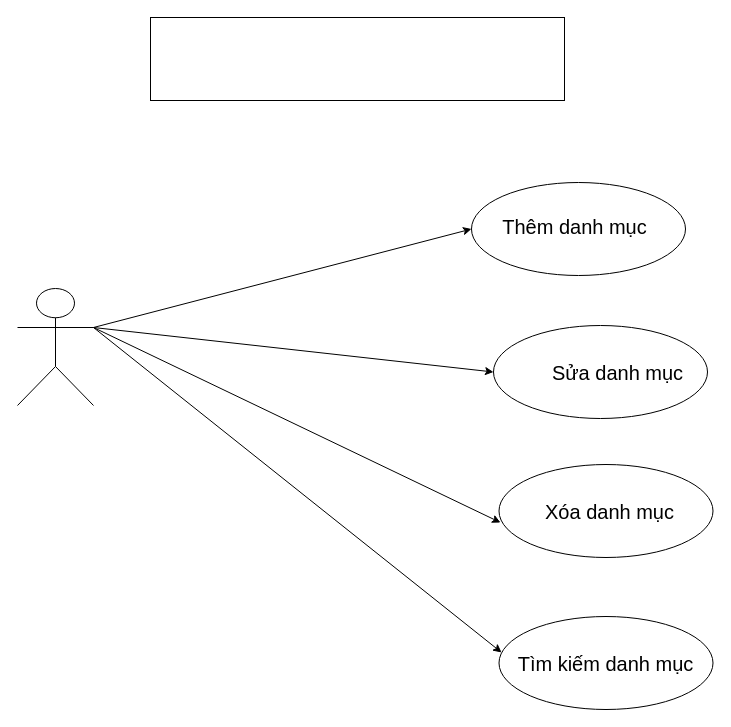
The diagram is 731 pixels wide and 727 high, and some of its shapes have lost their labels. Here are the shapes that lost their labels. From the top down, the centre of each, then its label:
At pixel 357 58: "Quản lý danh mục".
At pixel 55 347: "admin".
